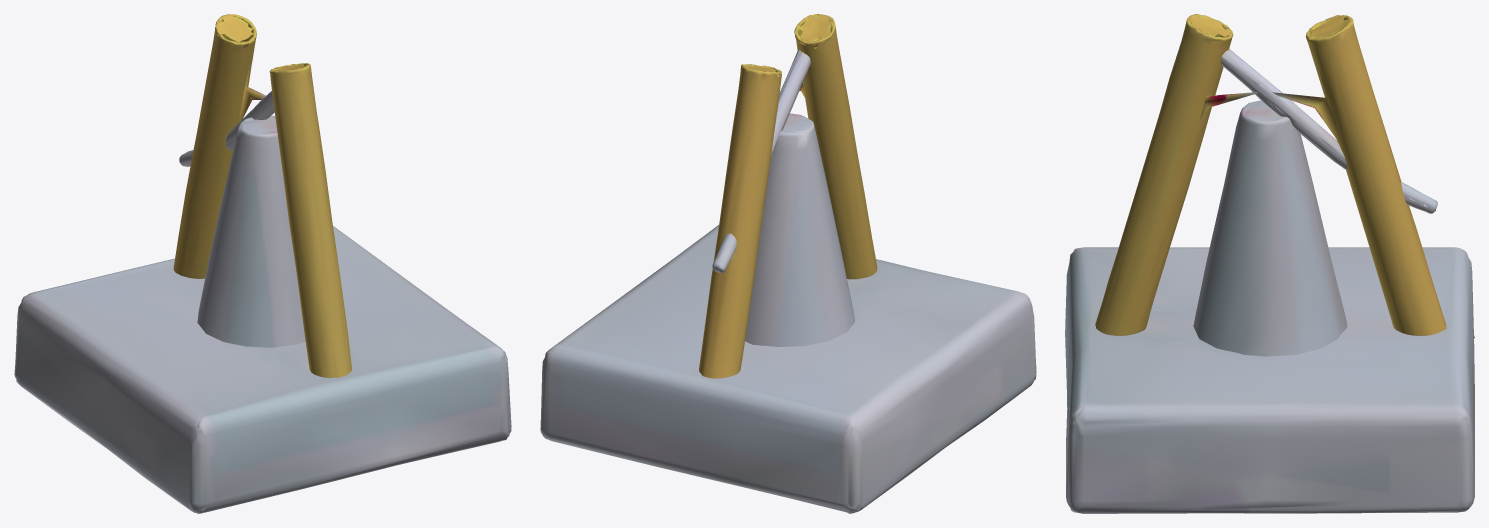
File: extractor.glb
3 renders of one model, left to right at view 1: azimuth 30°, elevation 25°; view 2: azimuth 150°, elevation 25°; view 3: azimuth 270°, elevation 25°, orthographic. The views are drawn at different scales.
Bounding box in the file's own units: 0.9043 × 1 × 0.9043.
Materials: 1 (1 with a texture image).
